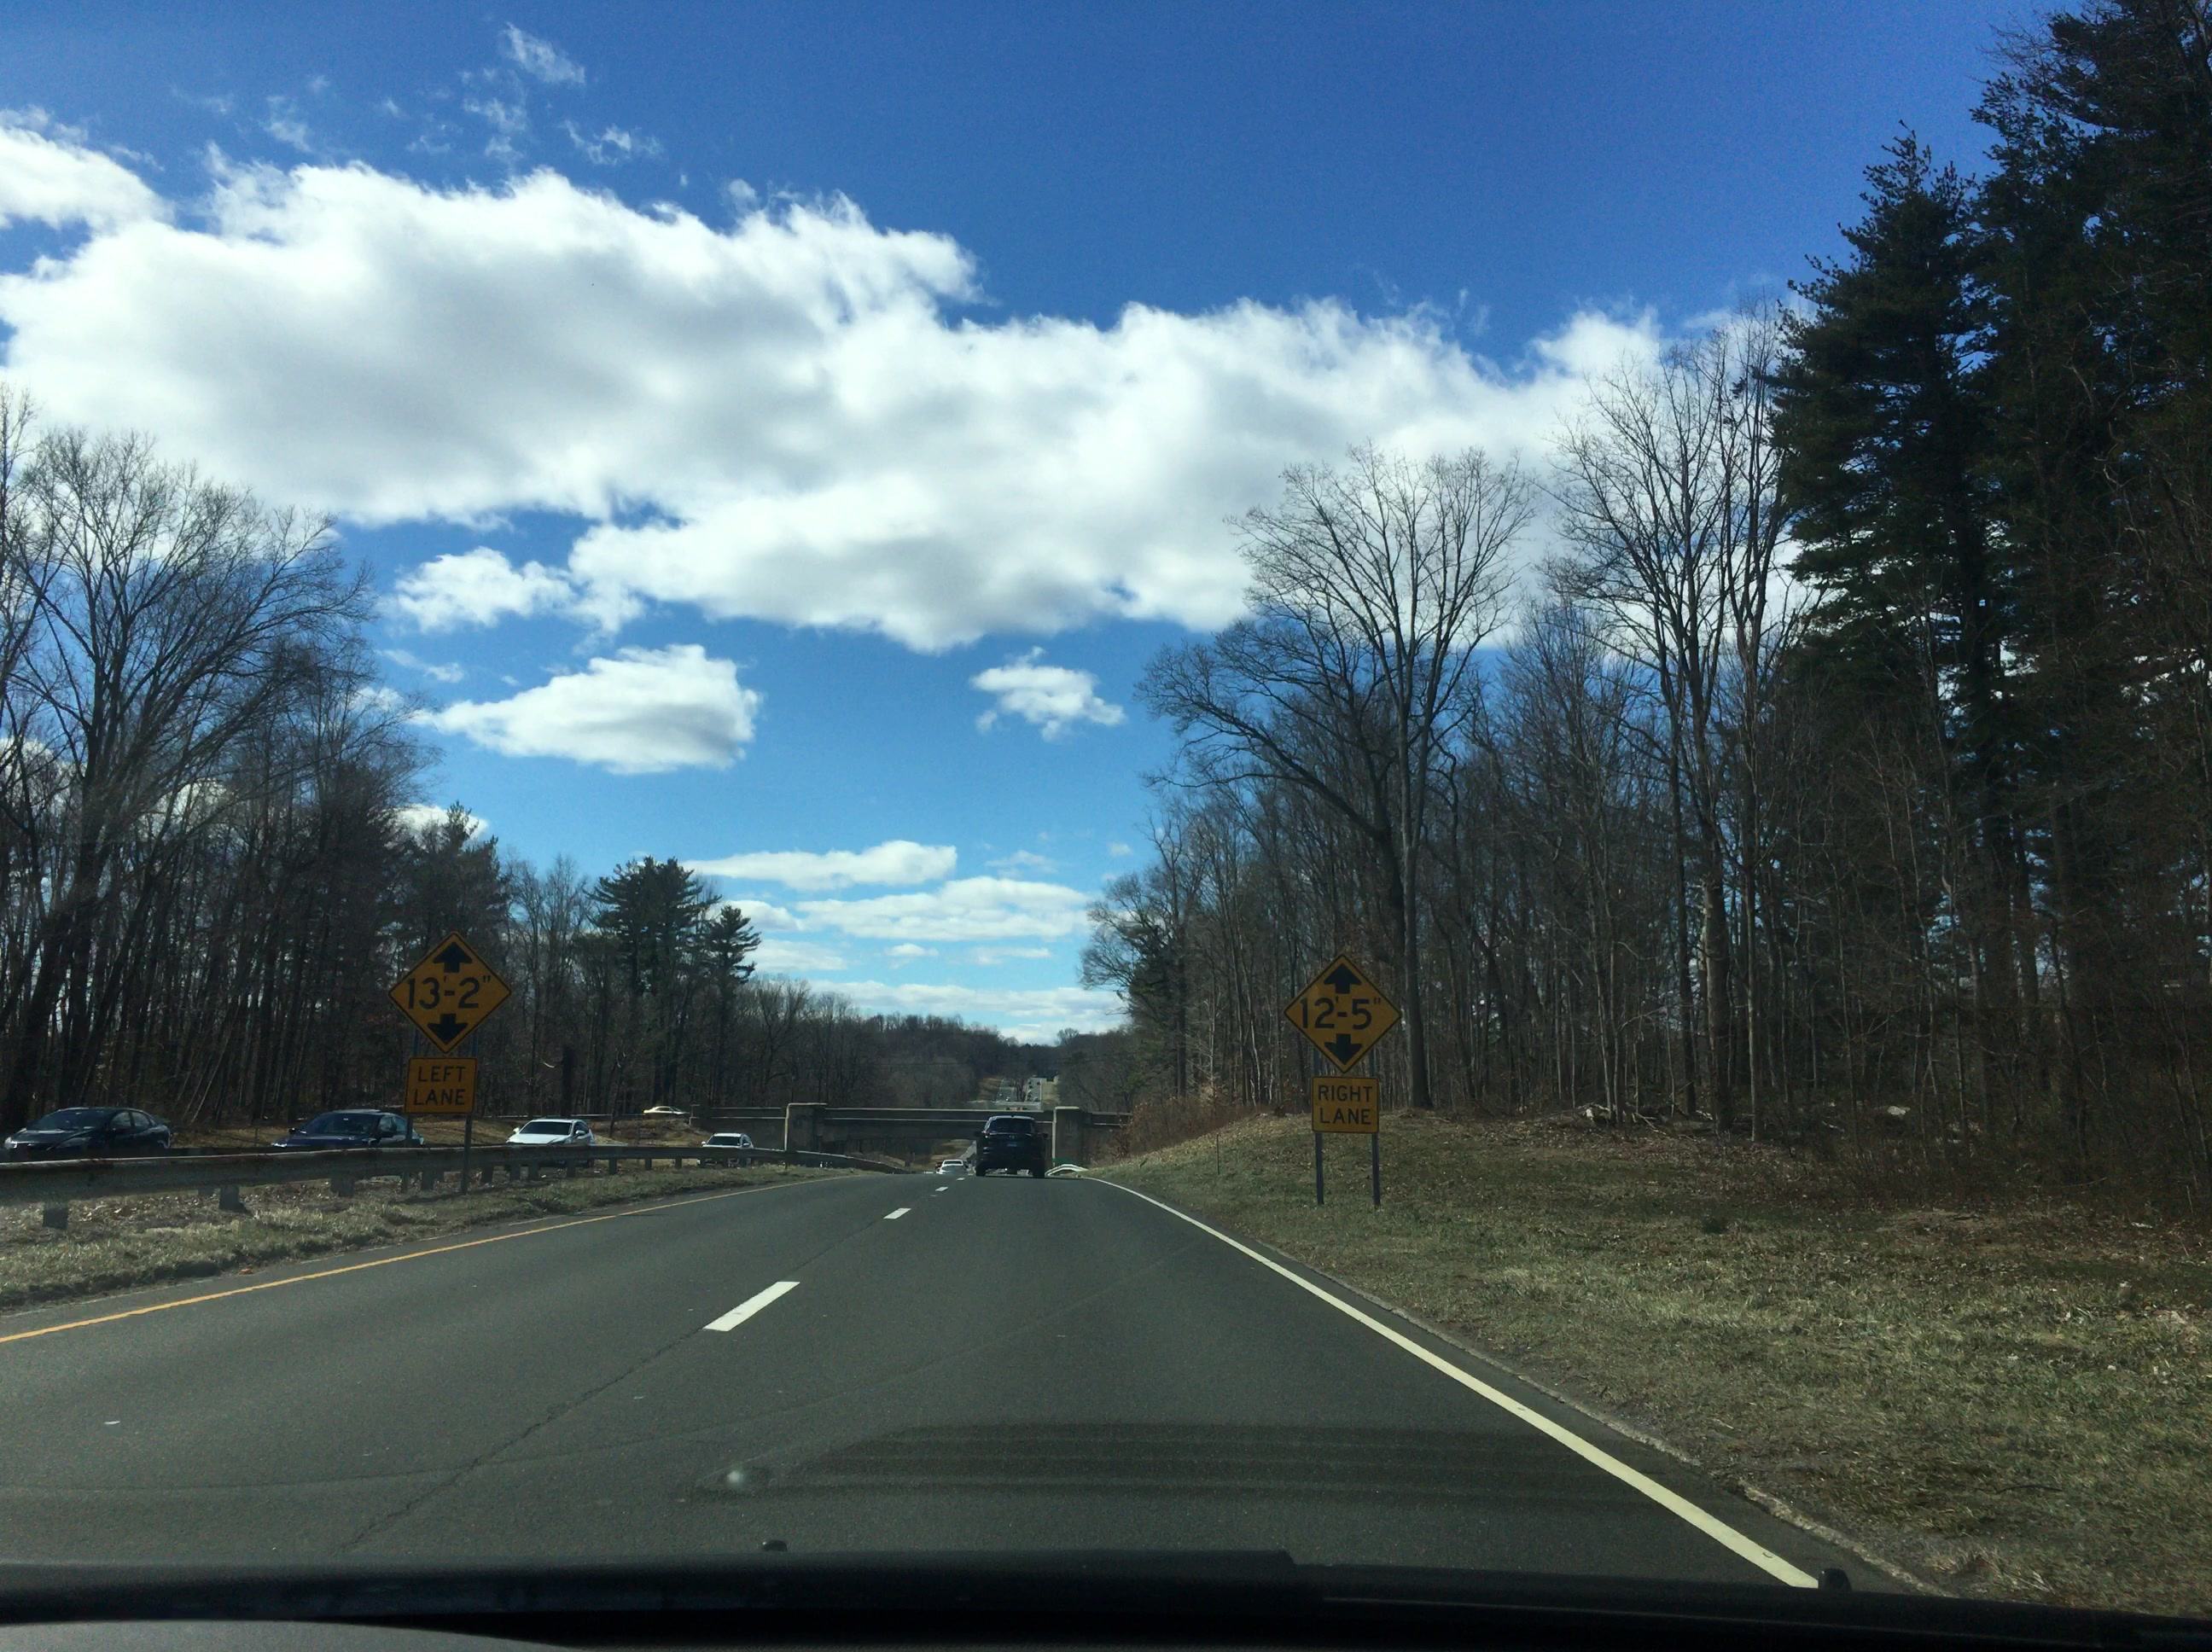low-clearance-sign: (387, 930, 514, 1055), (1282, 953, 1404, 1078)
